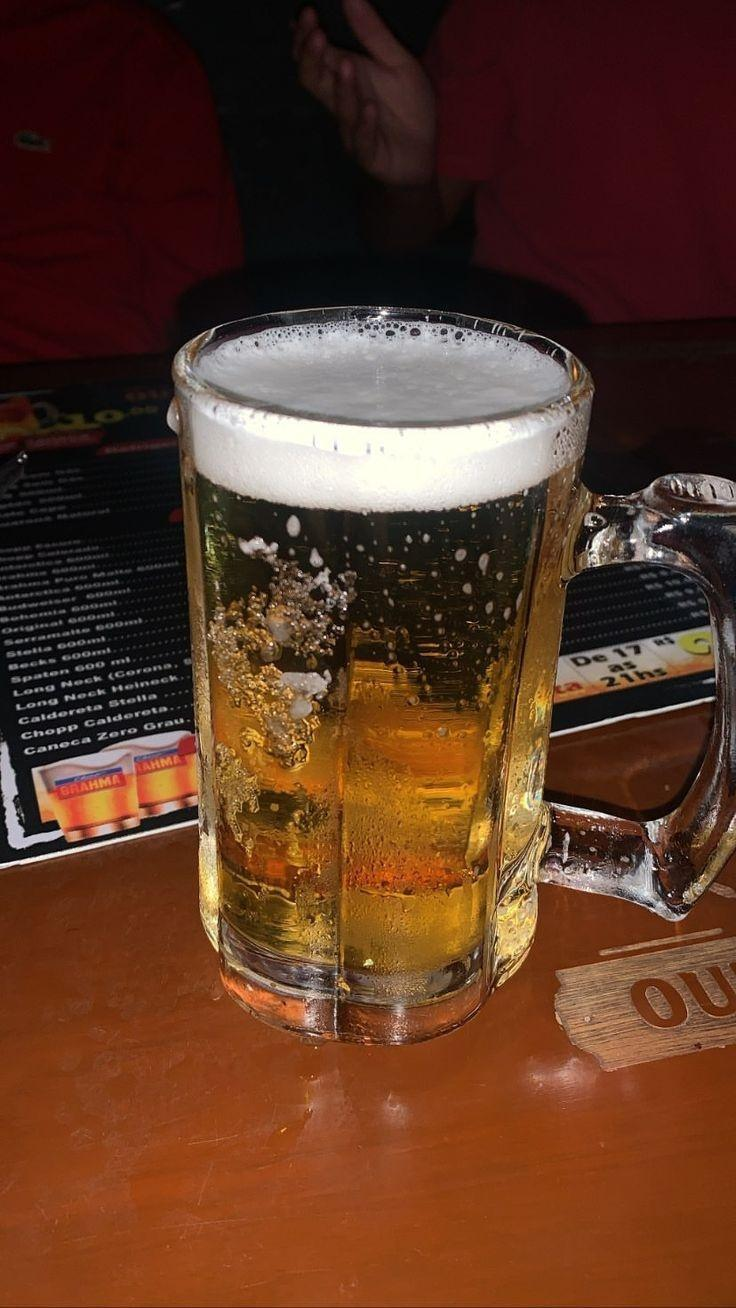glass-mug: (161, 298, 736, 1054)
